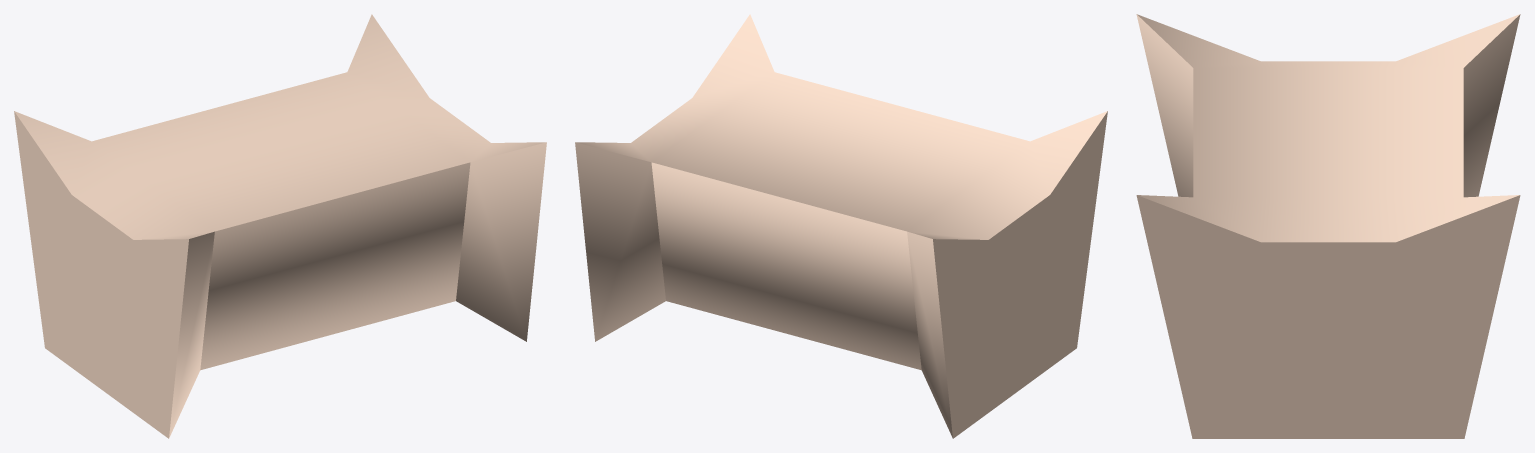
File: Goupille retaillee_Suspension.obj
The picture shows the model from 3 angles, left to right: view 1: azimuth 30°, elevation 25°; view 2: azimuth 150°, elevation 25°; view 3: azimuth 270°, elevation 25°; orthographic projection. The views are drawn at different scales.
Parts seen in each view (by area): view 1: Face_6, Face_1, Face_5, Face_2, Face_4; view 2: Face_6, Face_1, Face_5, Face_2, Face_4; view 3: Face_3, Face_6, Face_4.
Boxes of the visible parts, box(x1,y1,x2,y2) form: Face_6: box(14, 14, 545, 239); Face_1: box(200, 162, 470, 370); Face_5: box(14, 111, 188, 438); Face_2: box(456, 142, 546, 341); Face_4: box(169, 231, 214, 438); Face_6: box(576, 14, 1107, 239); Face_1: box(651, 162, 921, 370); Face_5: box(933, 111, 1107, 438); Face_2: box(575, 142, 665, 341); Face_4: box(907, 231, 952, 438); Face_3: box(1136, 195, 1520, 438); Face_6: box(1137, 14, 1519, 242); Face_4: box(1136, 14, 1520, 197).
Bounding box in the file's own units: 0.00107 × 0.000643 × 0.00089.
